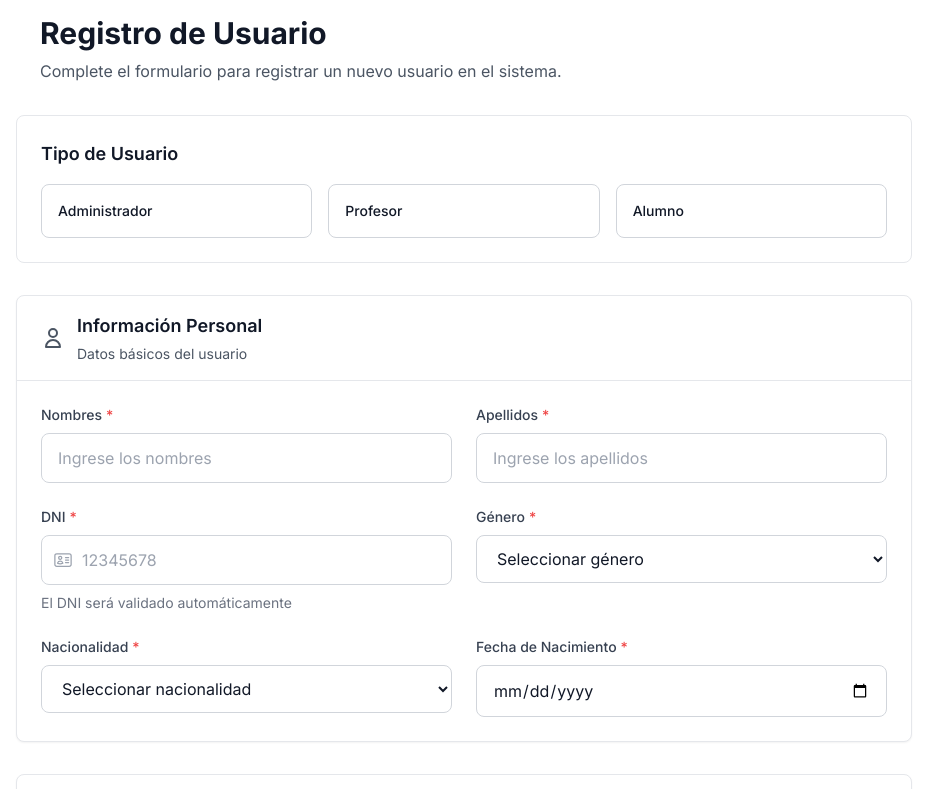
Test: ModernRegistrationForm › shows guardian information section for students
The image size is (929, 789).
expect the text "Información del Apoderado" is not shown: met
// Select student role
Step 1. Click the radio button labelled "Alumno" → (658, 210), box x1=616 y1=184 x2=887 y2=238
(page scrolled)
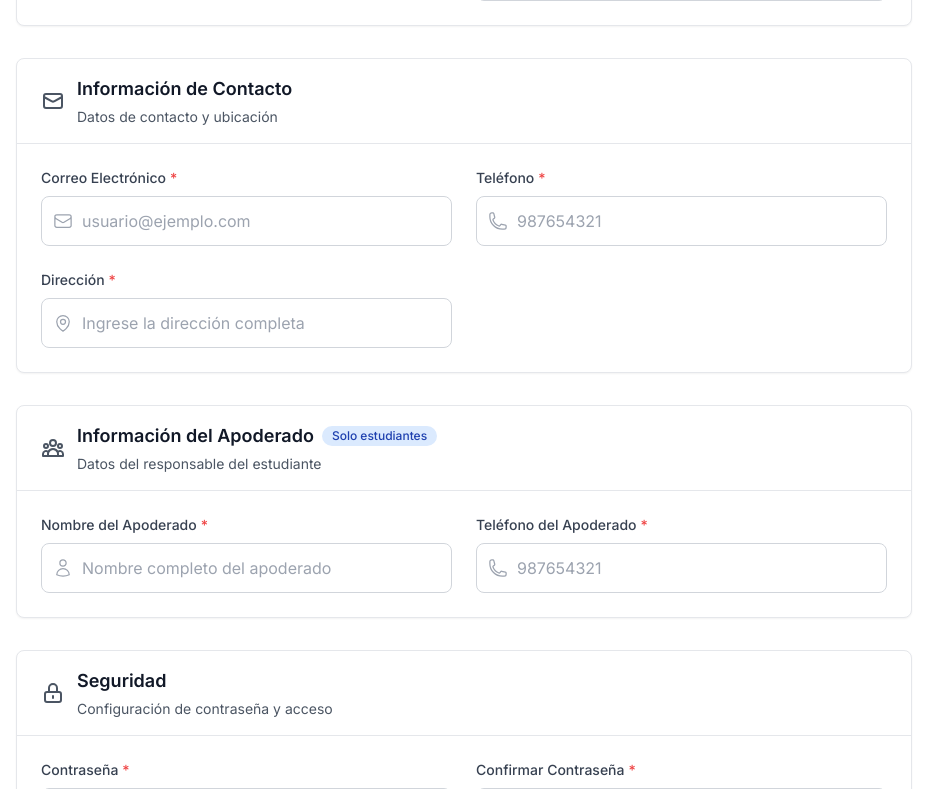
expect the heading "Información del Apoderado" is shown: met, box x1=77 y1=422 x2=314 y2=450
